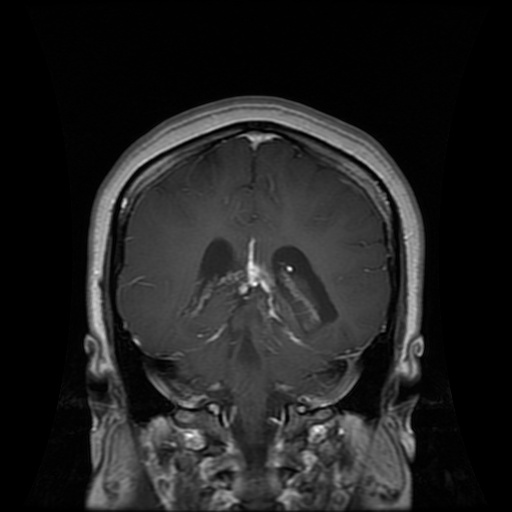glioma: (185, 262, 321, 348)
